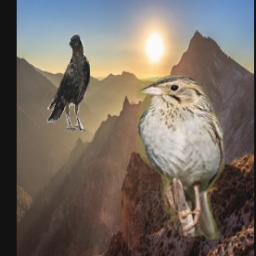Crow: (47, 34, 90, 132)
Sparrow: (137, 74, 225, 241)
